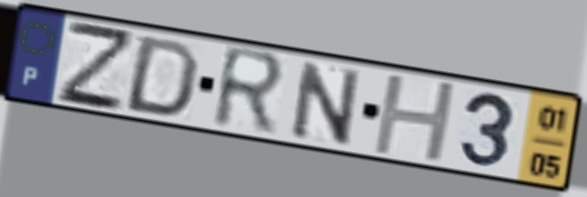3: (455, 90, 521, 174)
D: (119, 33, 204, 120)
H: (369, 73, 461, 165)
N: (289, 57, 364, 148)
R: (208, 42, 291, 140)
Z: (55, 16, 135, 115)
